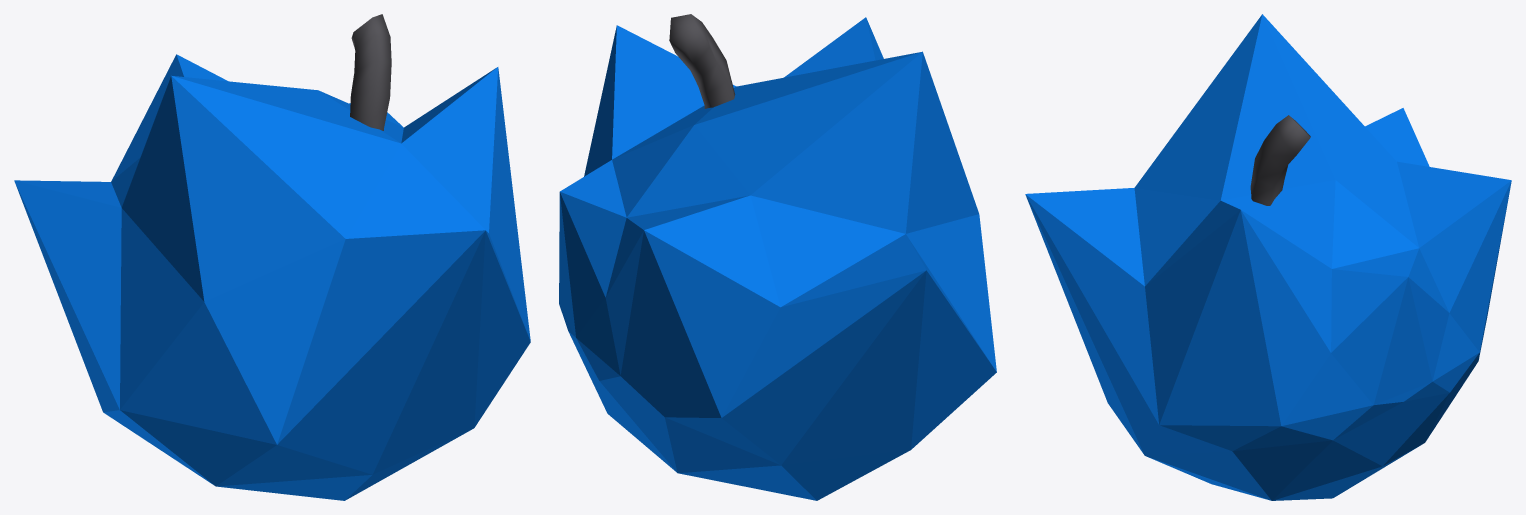
File: ice_bomb.fbx
3 renders of one model, left to right at view 1: azimuth 30°, elevation 25°; view 2: azimuth 150°, elevation 25°; view 3: azimuth 270°, elevation 25°, orthographic. The views are drawn at different scales.
Parts seen in each view (by area): view 1: Icosphere; view 2: Icosphere; view 3: Icosphere.
Part boxes in pixels (box(x1,y1,x2,y2)): Icosphere: box(14, 14, 530, 500); Icosphere: box(559, 14, 996, 500); Icosphere: box(1025, 14, 1511, 500).
Bounding box in the file's own units: 71.14 × 72.56 × 79.05.
